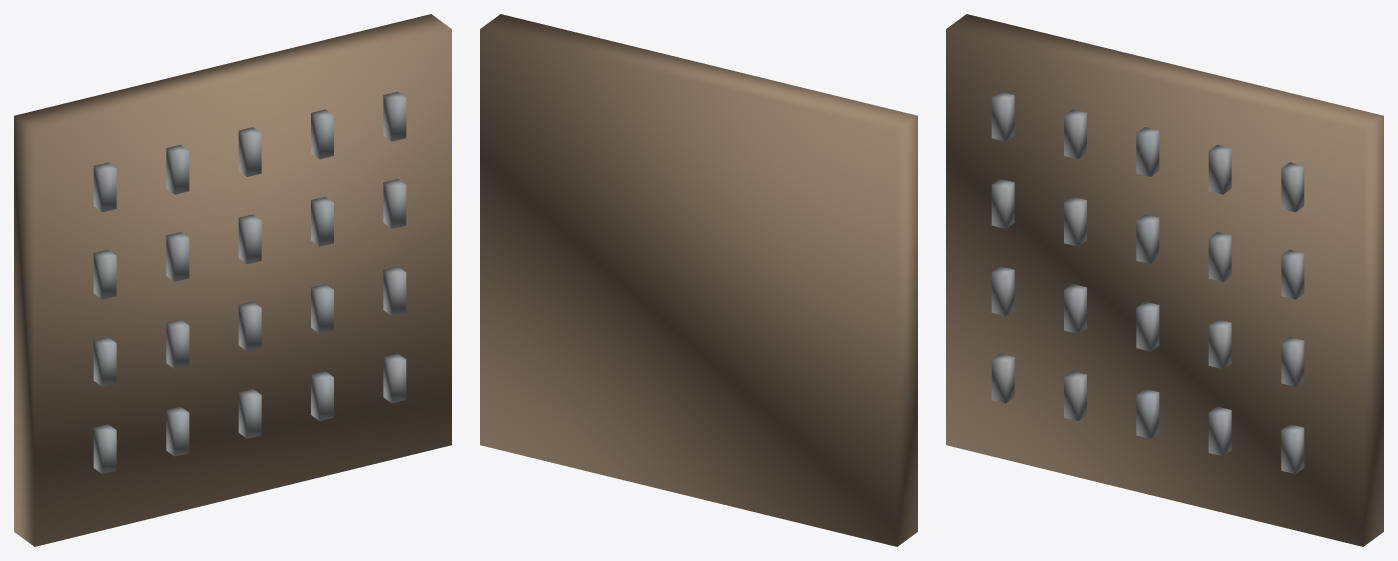
Rendered from key_cubby_rack__compact.glb.
3 views of the same model, side by side, from view 1: azimuth 30°, elevation 25°; view 2: azimuth 150°, elevation 25°; view 3: azimuth 330°, elevation 25° (orthographic).
Parts seen in each view (by area): view 1: world; view 2: world; view 3: world.
Boxes of the visible parts, <box> form: world: <box>14,14,451,546</box>; world: <box>480,14,917,546</box>; world: <box>946,14,1383,546</box>.
Size of the model in its own units: 0.6048 by 0.5766 by 0.0795.
